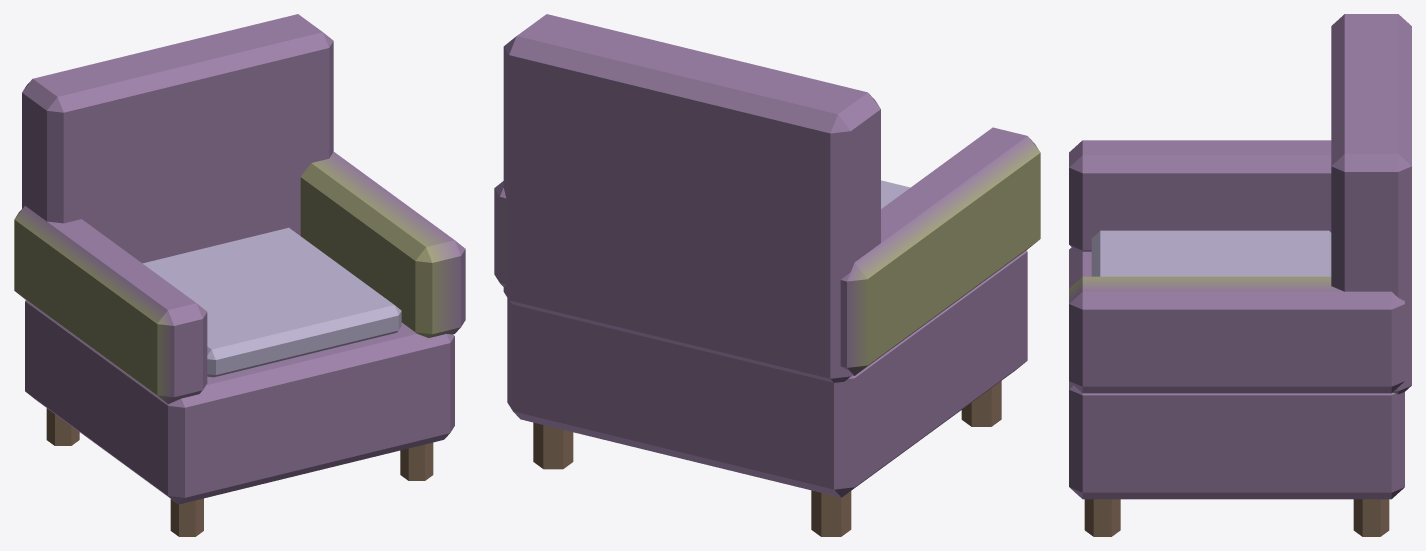
Rendered from PlaidArmchair.fbx.
3 renders of one model, left to right at view 1: azimuth 30°, elevation 25°; view 2: azimuth 150°, elevation 25°; view 3: azimuth 270°, elevation 25°, orthographic. The views are drawn at different scales.
Parts seen in each view (by area): view 1: Prop_PlaidArmchair; view 2: Prop_PlaidArmchair; view 3: Prop_PlaidArmchair.
Part boxes in pixels (bbox=[...]): Prop_PlaidArmchair: bbox=[14, 14, 465, 536]; Prop_PlaidArmchair: bbox=[494, 14, 1040, 536]; Prop_PlaidArmchair: bbox=[1069, 14, 1411, 536].
Size of the model in its own units: 0.86 by 0.95 by 0.765.
